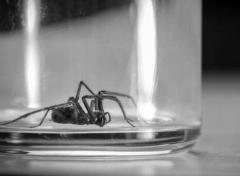glass: (1, 0, 203, 158)
